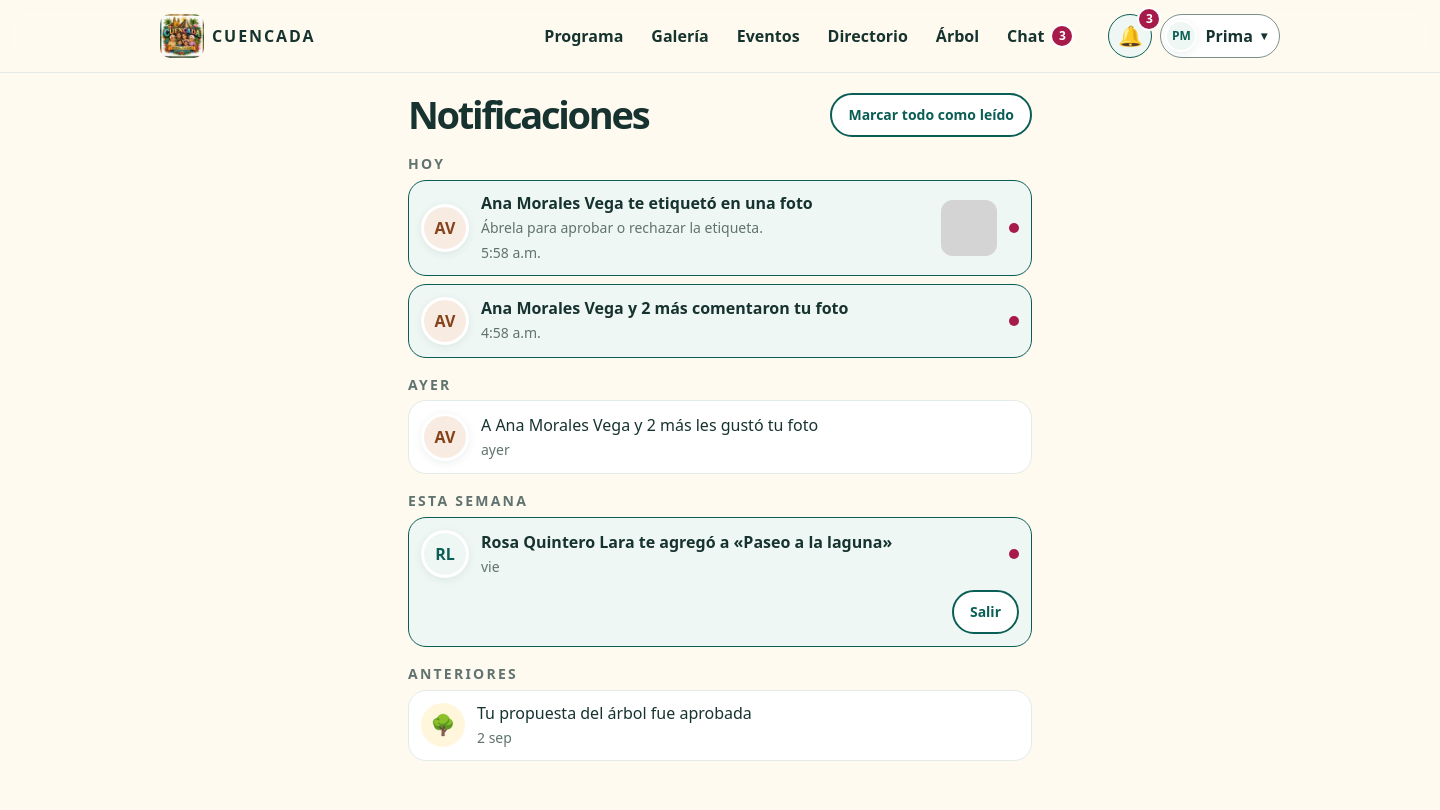
NotificationsPage › marks everything read in one tap and clears the badge
Expected: the text "Ana Morales Vega te etiquetó en una foto" is shown, [480,191,813,214]
Click the button "Marcar todo como leído" at [931, 115], box [830,93,1032,137]
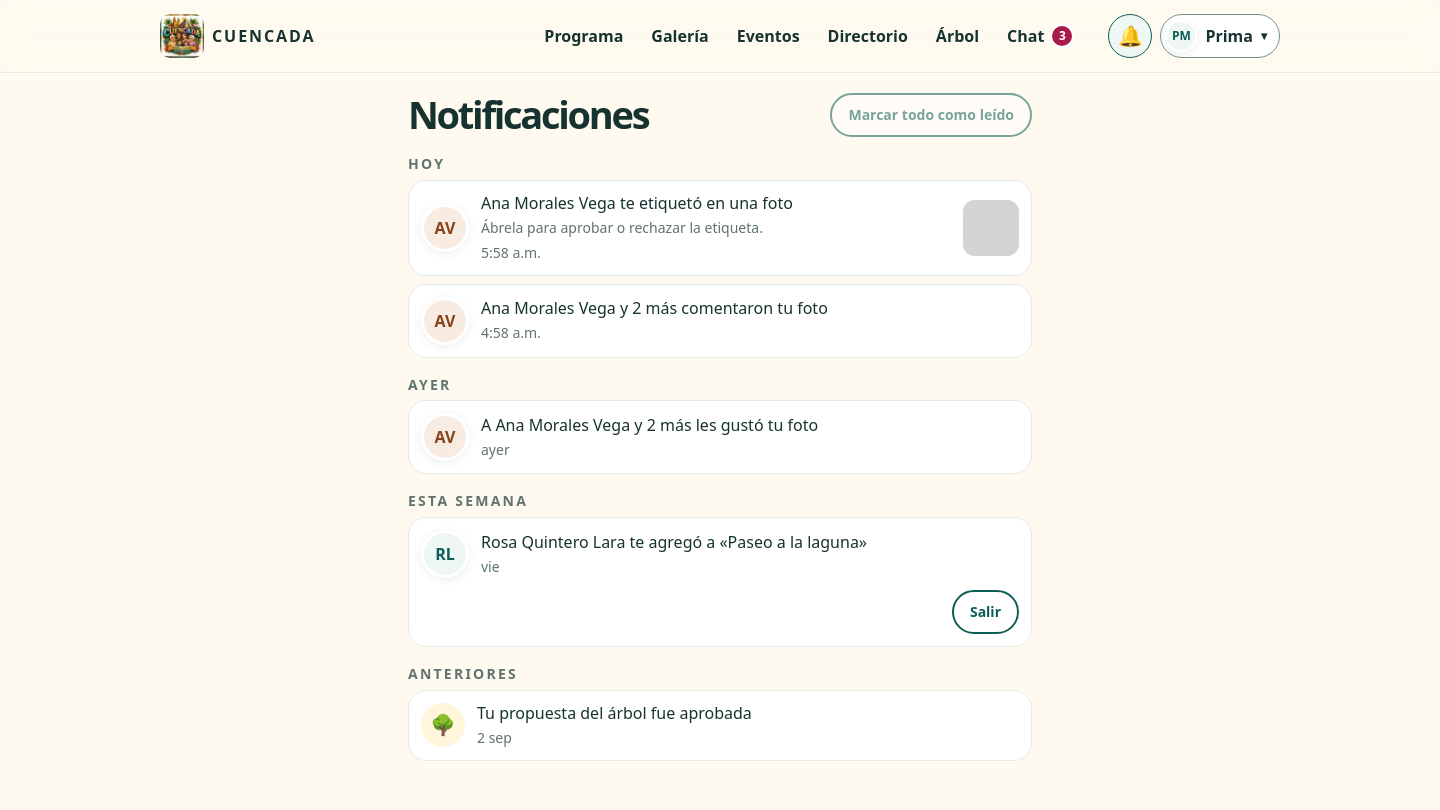
Expected: the text "Sin leer:" is not shown
Result: the button "Marcar todo como leído" is disabled at [830,93,1032,137]
